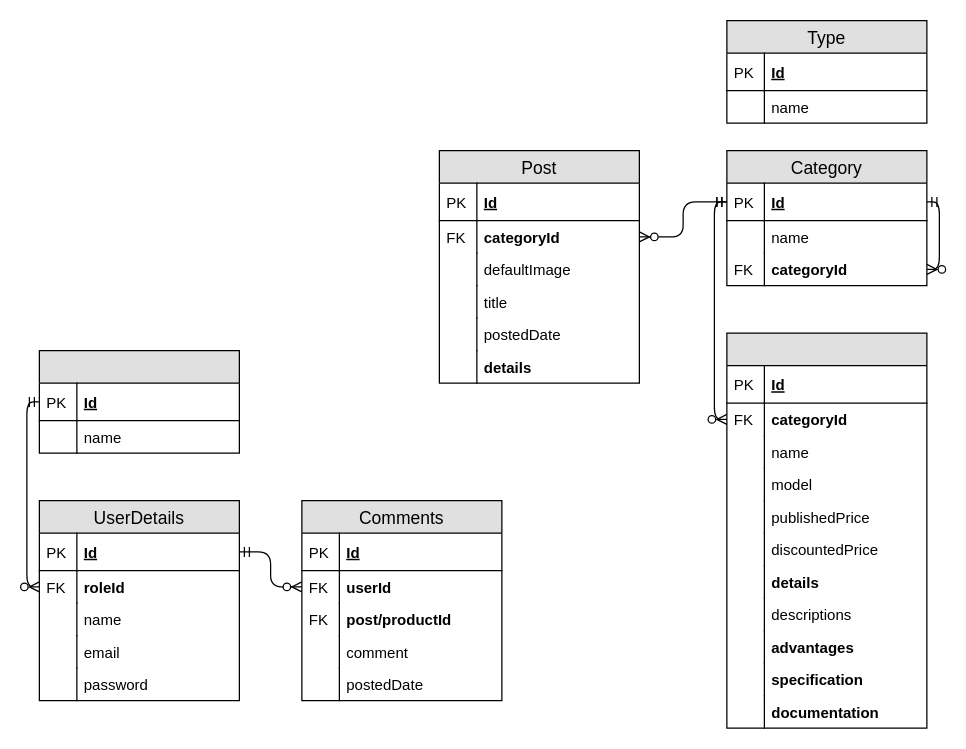
Image size: 966x749. Some labels were removed from this diagram. Here are the shapes that lost their labels. From the top down, the box of each, then its label:
(38, 349, 239, 453): Role
(726, 332, 927, 728): Products
